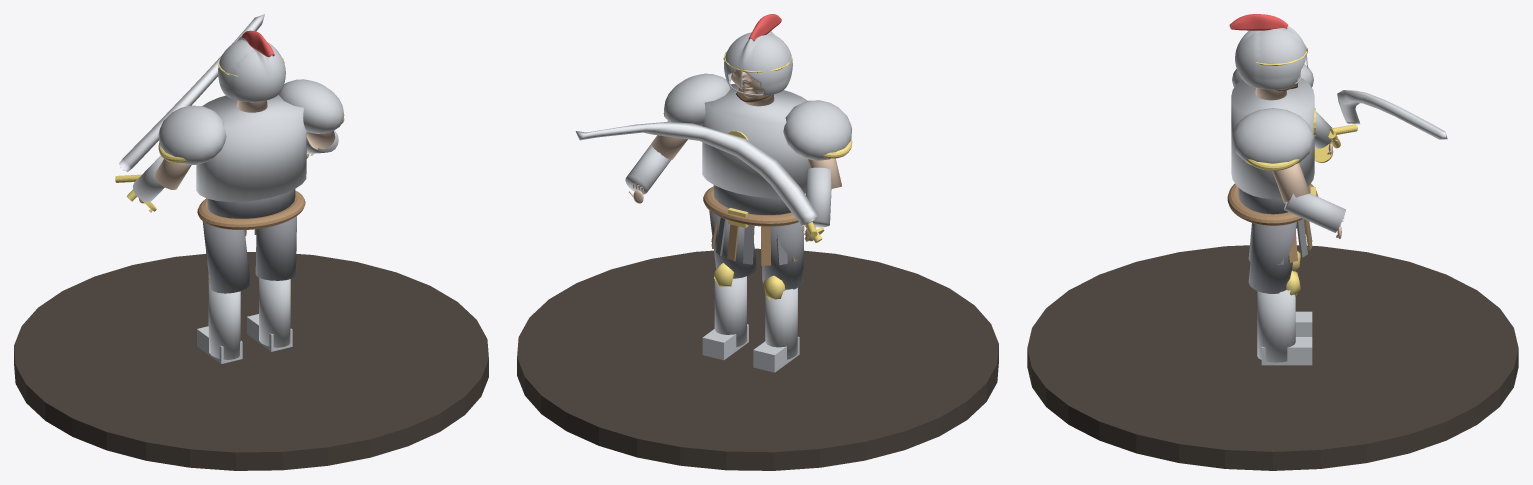
The model's file is warrior-lod1-balanced.glb.
3 views of the same model, side by side, from view 1: azimuth 30°, elevation 25°; view 2: azimuth 150°, elevation 25°; view 3: azimuth 270°, elevation 25° (orthographic). The views are drawn at different scales.
Parts seen in each view (by area): view 1: Warrior_Floor_Stone_Mat_Node, Warrior_Steel_Armor_Mat_Node, Warrior_Dark_Iron_Mat_Node, Warrior_Talwar_Blade_Mat_Node, Warrior_Leather_Mat_Node, Warrior_Skin_Mat_Node; view 2: Warrior_Floor_Stone_Mat_Node, Warrior_Steel_Armor_Mat_Node, Warrior_Dark_Iron_Mat_Node, Warrior_Talwar_Blade_Mat_Node, Warrior_Leather_Mat_Node, Warrior_Skin_Mat_Node, Warrior_Gold_Trim_Mat_Node; view 3: Warrior_Floor_Stone_Mat_Node, Warrior_Steel_Armor_Mat_Node, Warrior_Dark_Iron_Mat_Node, Warrior_Talwar_Blade_Mat_Node, Warrior_Leather_Mat_Node, Warrior_Skin_Mat_Node, Warrior_Gold_Trim_Mat_Node, Warrior_Crimson_Cape_Mat_Node, Warrior_Talwar_Brass_Mat_Node.
Boxes of the visible parts, x1=… form: Warrior_Floor_Stone_Mat_Node: x1=14, y1=252, x2=488, y2=470; Warrior_Steel_Armor_Mat_Node: x1=133, y1=36, x2=344, y2=363; Warrior_Dark_Iron_Mat_Node: x1=202, y1=189, x2=296, y2=293; Warrior_Talwar_Blade_Mat_Node: x1=119, y1=14, x2=264, y2=171; Warrior_Leather_Mat_Node: x1=197, y1=190, x2=305, y2=259; Warrior_Skin_Mat_Node: x1=139, y1=100, x2=335, y2=203; Warrior_Floor_Stone_Mat_Node: x1=517, y1=248, x2=998, y2=470; Warrior_Steel_Armor_Mat_Node: x1=625, y1=31, x2=851, y2=372; Warrior_Dark_Iron_Mat_Node: x1=709, y1=185, x2=804, y2=289; Warrior_Talwar_Blade_Mat_Node: x1=575, y1=122, x2=817, y2=225; Warrior_Leather_Mat_Node: x1=703, y1=186, x2=798, y2=265; Warrior_Skin_Mat_Node: x1=628, y1=70, x2=841, y2=241; Warrior_Gold_Trim_Mat_Node: x1=663, y1=52, x2=852, y2=299; Warrior_Floor_Stone_Mat_Node: x1=1027, y1=245, x2=1518, y2=470; Warrior_Steel_Armor_Mat_Node: x1=1231, y1=26, x2=1345, y2=365; Warrior_Dark_Iron_Mat_Node: x1=1238, y1=187, x2=1312, y2=293; Warrior_Talwar_Blade_Mat_Node: x1=1337, y1=90, x2=1447, y2=139; Warrior_Leather_Mat_Node: x1=1227, y1=183, x2=1318, y2=262; Warrior_Skin_Mat_Node: x1=1255, y1=61, x2=1344, y2=238; Warrior_Gold_Trim_Mat_Node: x1=1245, y1=44, x2=1315, y2=296; Warrior_Crimson_Cape_Mat_Node: x1=1229, y1=14, x2=1287, y2=30; Warrior_Talwar_Brass_Mat_Node: x1=1314, y1=124, x2=1357, y2=162.
Bounding box in the file's own units: 2.8 × 2.22 × 2.8.
